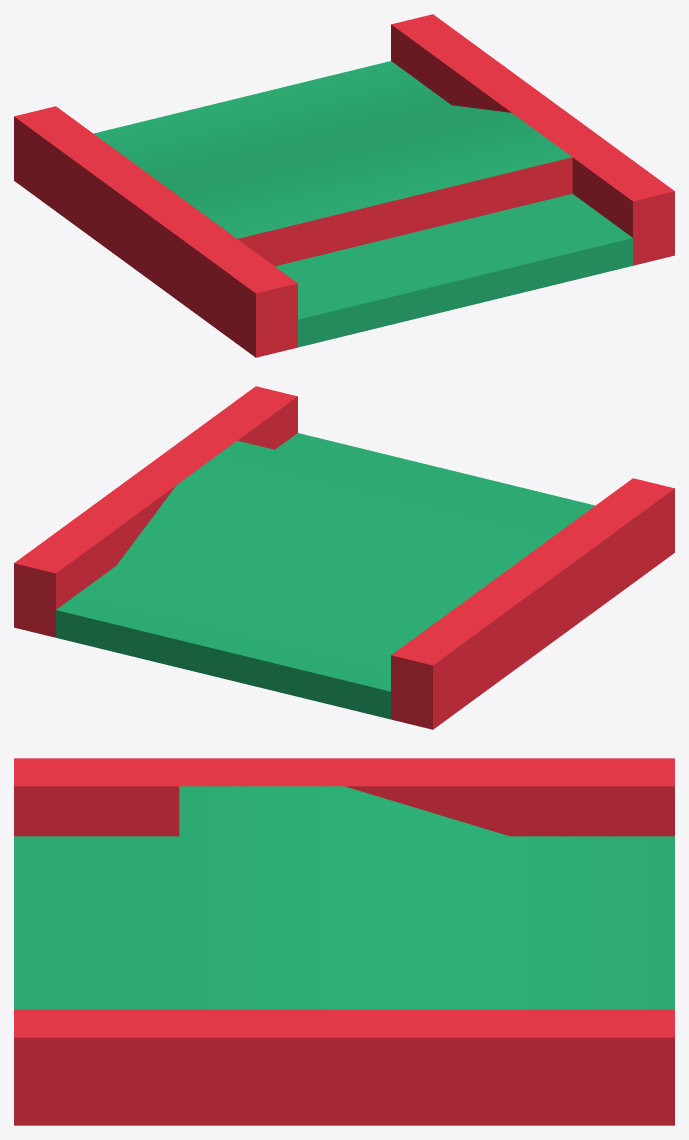
Rendered from rampSquare.fbx.
3 renders of one model, top to bottom at view 1: azimuth 30°, elevation 25°; view 2: azimuth 150°, elevation 25°; view 3: azimuth 270°, elevation 25°, orthographic. The views are drawn at different scales.
Parts seen in each view (by area): view 1: rampSquare; view 2: rampSquare; view 3: rampSquare.
Boxes of the visible parts, bbox=[...] form: rampSquare: bbox=[14, 14, 674, 357]; rampSquare: bbox=[14, 386, 674, 729]; rampSquare: bbox=[14, 758, 674, 1125].
Size of the model in its own units: 10 by 1.47 by 10.
